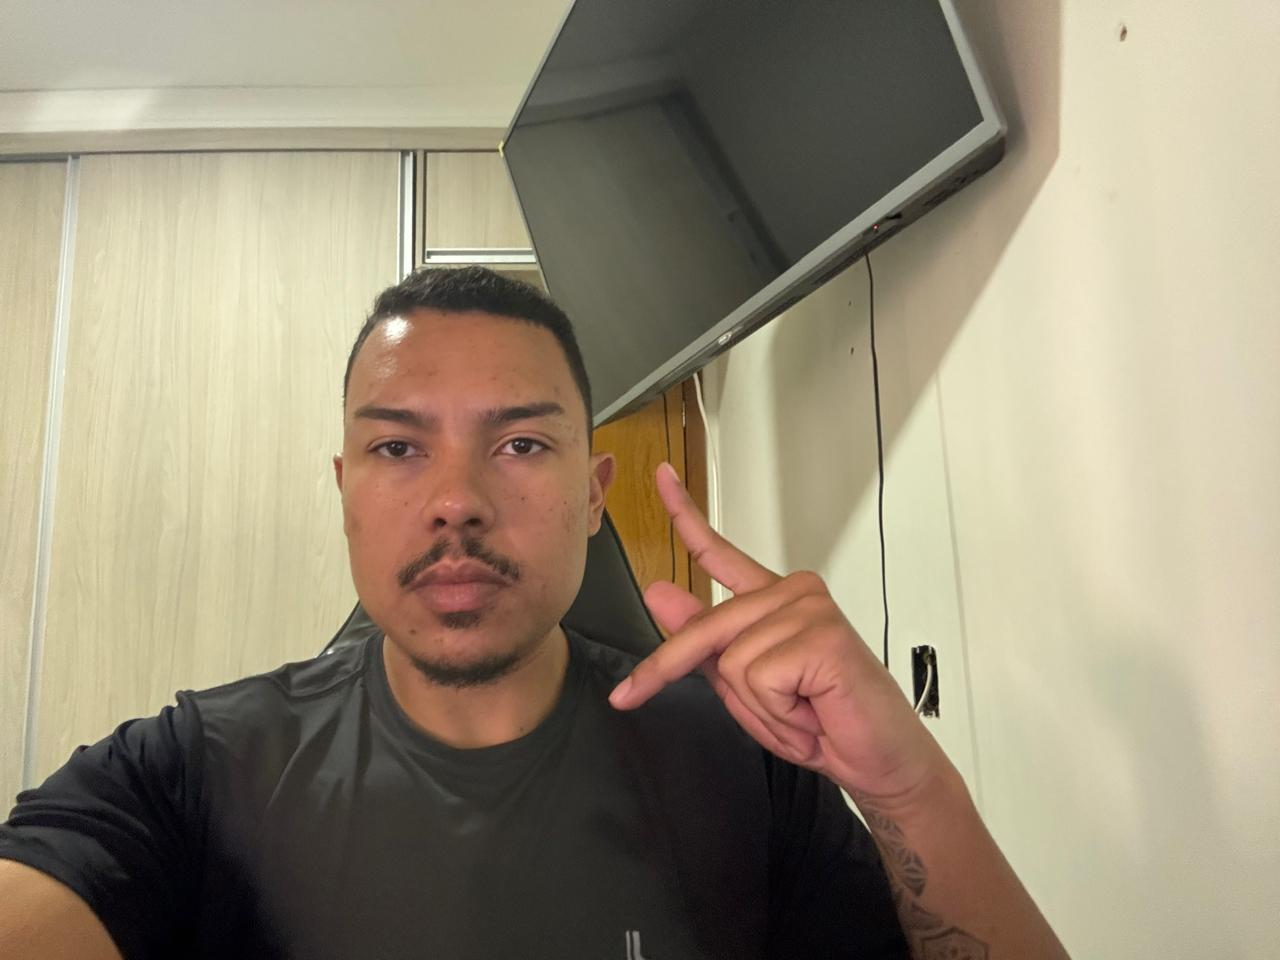p: (599, 455, 969, 813)
